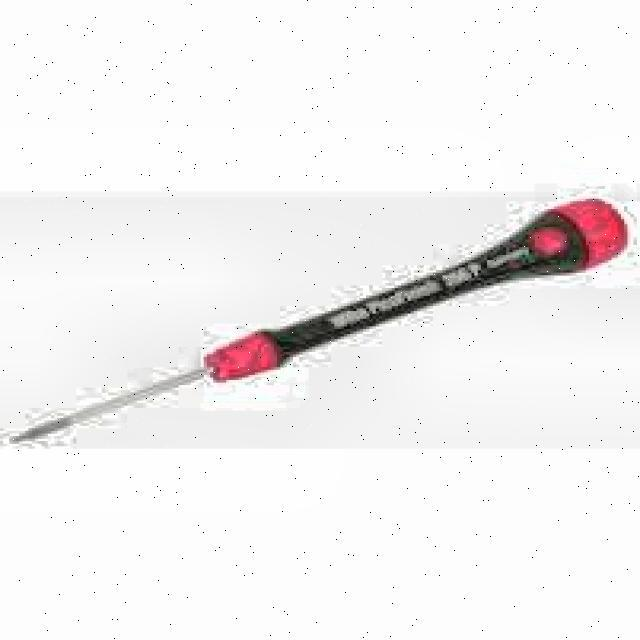screwdriver: (14, 198, 626, 441)
